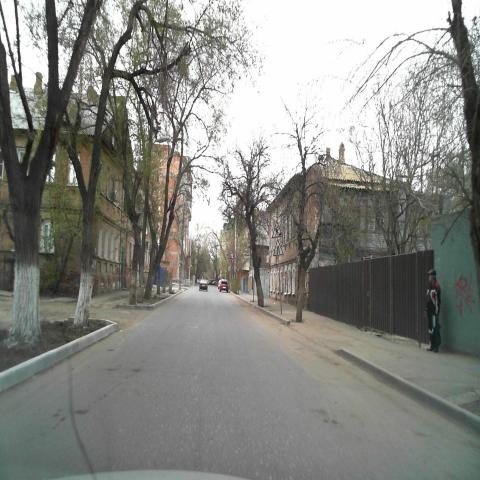1_20_3: (272, 239, 284, 256)
